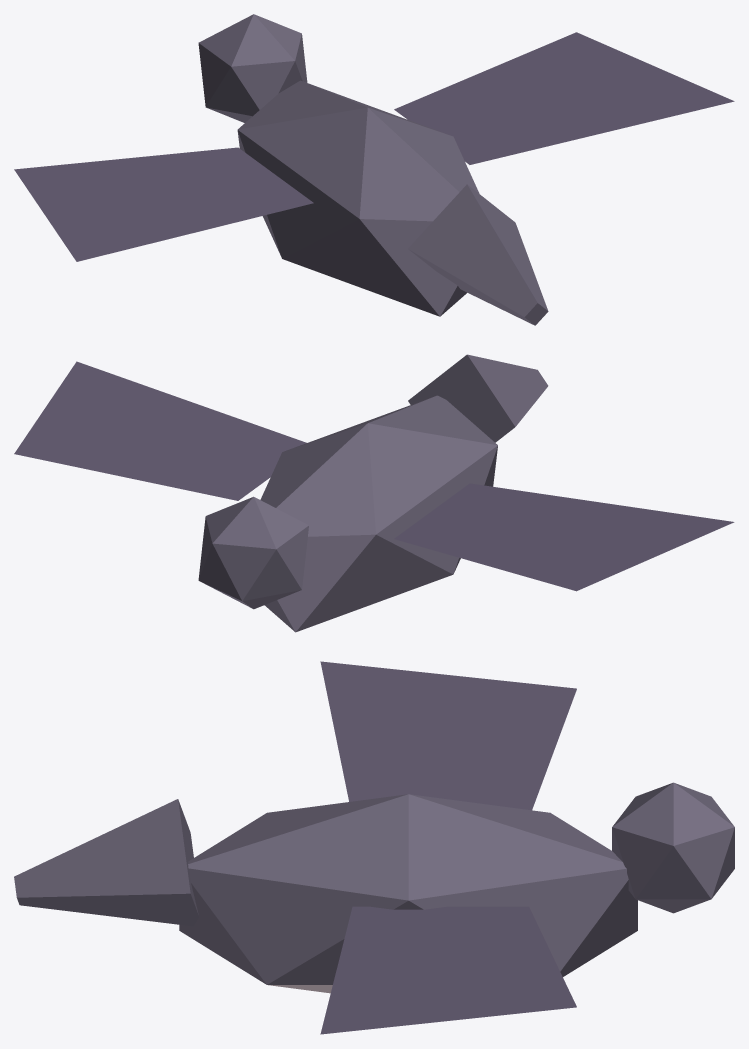
Rendered from Bird.glb.
The picture shows the model from 3 angles, top to bottom: view 1: azimuth 30°, elevation 25°; view 2: azimuth 150°, elevation 25°; view 3: azimuth 270°, elevation 25°; orthographic projection. The views are drawn at different scales.
Visible parts, largest first — view 1: Body, Wing_L, Wing_R; view 2: Body, Wing_L, Wing_R; view 3: Body, Wing_R, Wing_L.
Boxes of the visible parts, x1,y1,x2,y2 form: Body: (198, 14, 548, 325); Wing_L: (394, 32, 734, 164); Wing_R: (14, 147, 313, 261); Body: (198, 354, 548, 632); Wing_L: (14, 361, 306, 500); Wing_R: (394, 483, 734, 591); Body: (14, 782, 734, 993); Wing_R: (320, 661, 576, 810); Wing_L: (320, 906, 576, 1034).
Bounding box in the file's own units: 1.1 × 0.304 × 0.8984.
